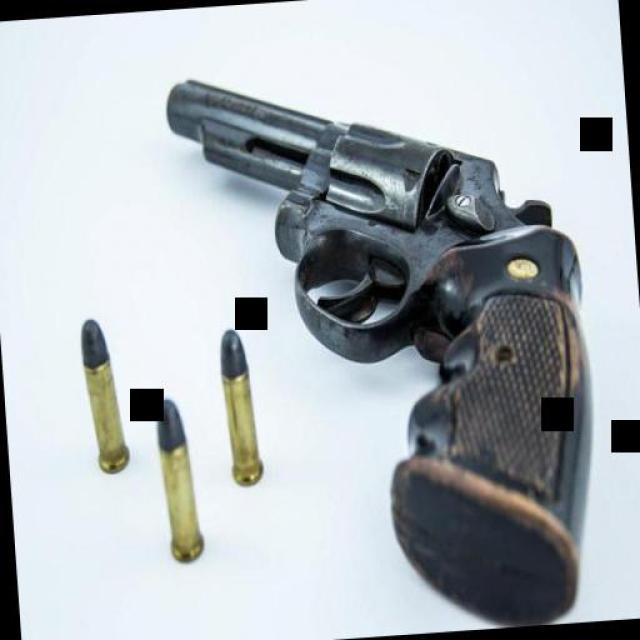gun: (159, 41, 606, 640)
